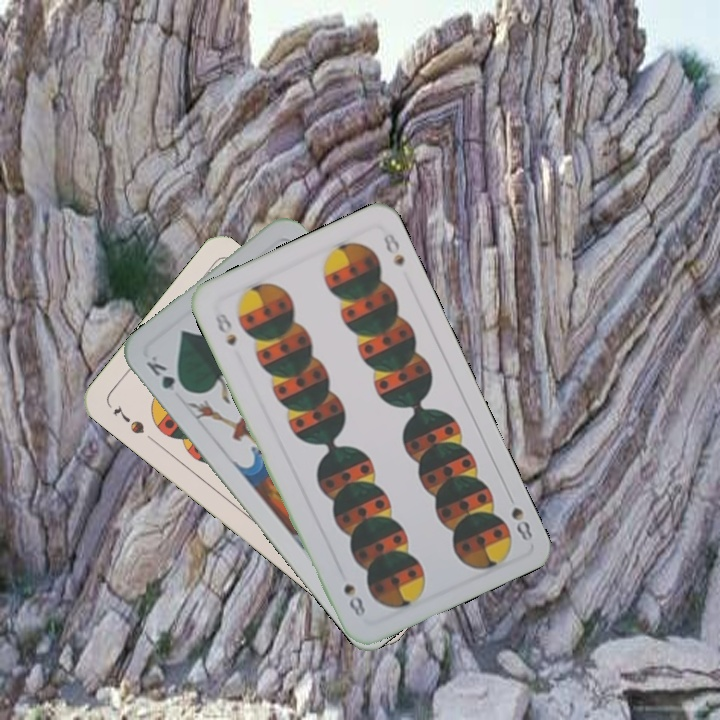GK: (142, 351, 191, 396)
S7: (109, 402, 147, 437)
S8: (503, 487, 536, 544), (211, 308, 239, 349)
